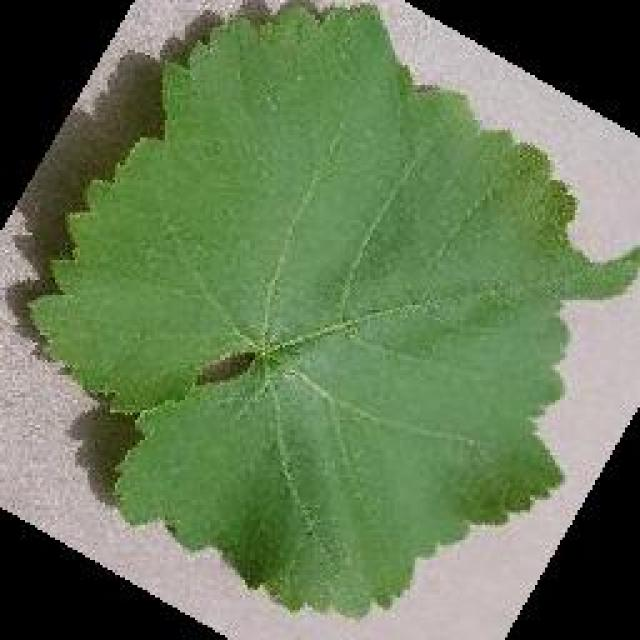Grape___healthy: (32, 5, 638, 612)
